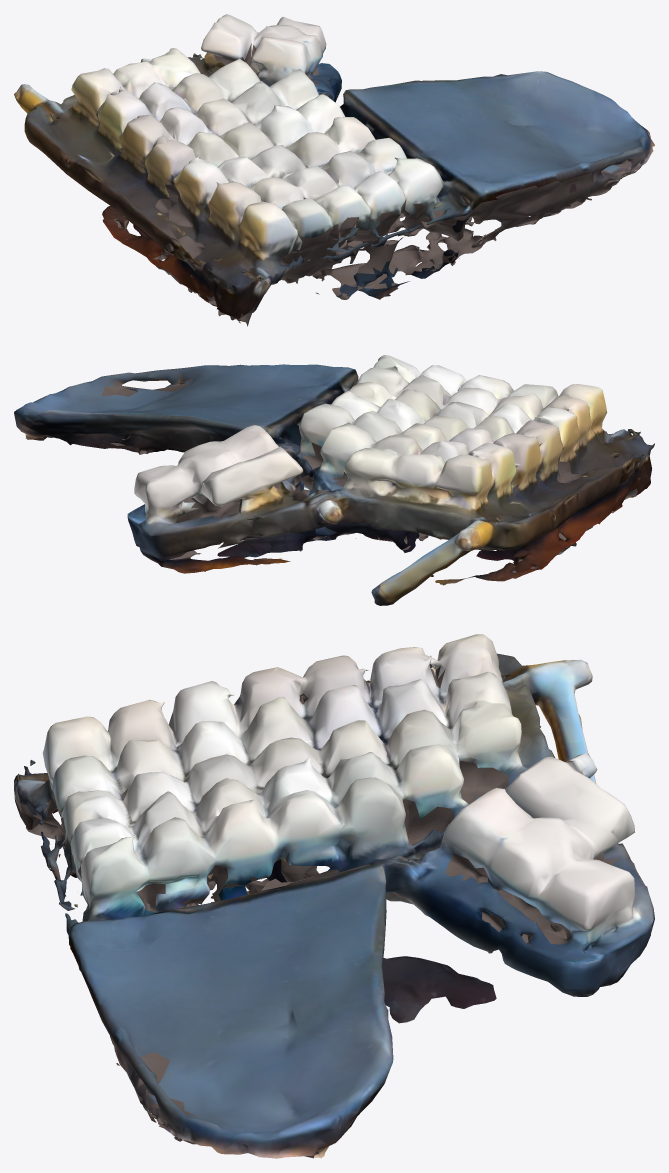
File: mesh_lowpoly.obj
3 views of the same model, one above another, from view 1: azimuth 30°, elevation 25°; view 2: azimuth 150°, elevation 25°; view 3: azimuth 270°, elevation 25° (orthographic). The views are drawn at different scales.
Visible parts, largest first — view 1: mesh_lowpoly; view 2: mesh_lowpoly; view 3: mesh_lowpoly.
Part boxes in pixels (x1,y1,x2,y2): mesh_lowpoly: (14, 14, 654, 326); mesh_lowpoly: (14, 355, 654, 605); mesh_lowpoly: (14, 634, 654, 1158).
Size of the model in its own units: 1.82 by 0.5579 by 1.28.
Materials: 5 (5 with a texture image).
